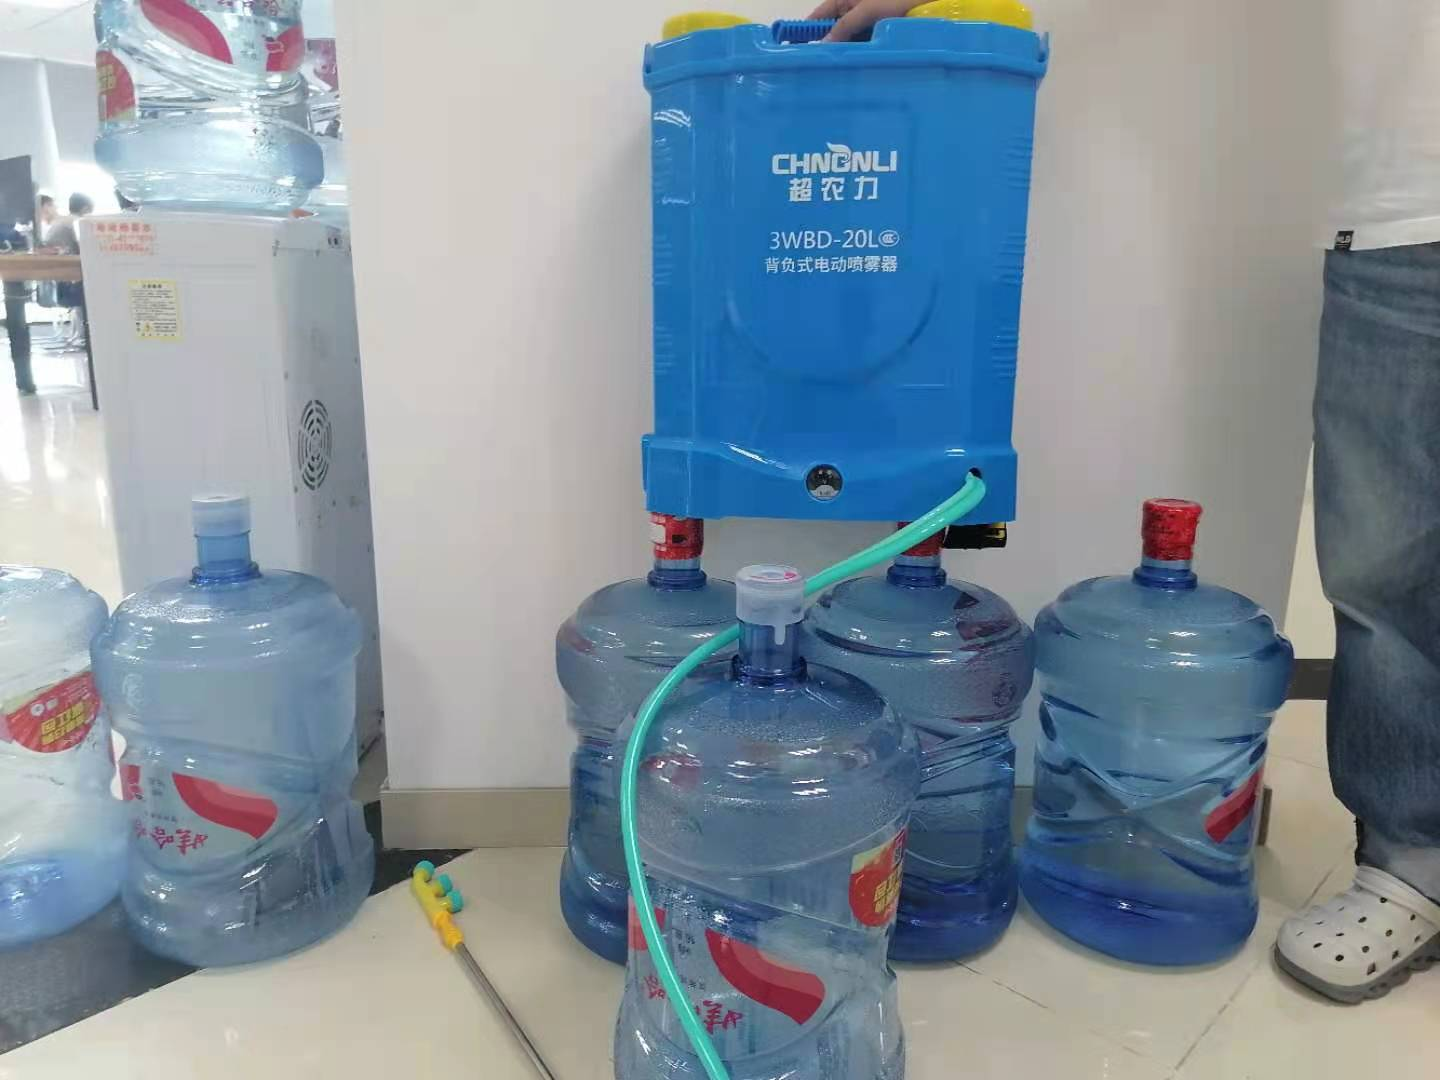berrl: (642, 3, 1057, 528)
